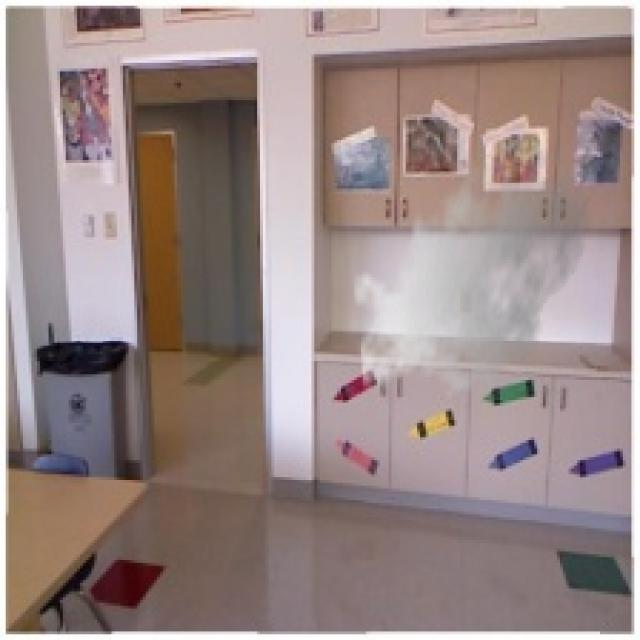Smoke: (352, 146, 592, 403)
